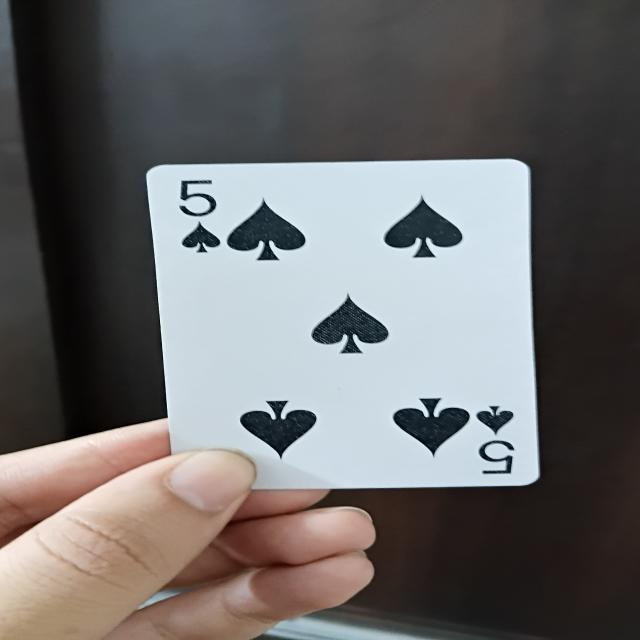5S: (131, 162, 563, 488)
